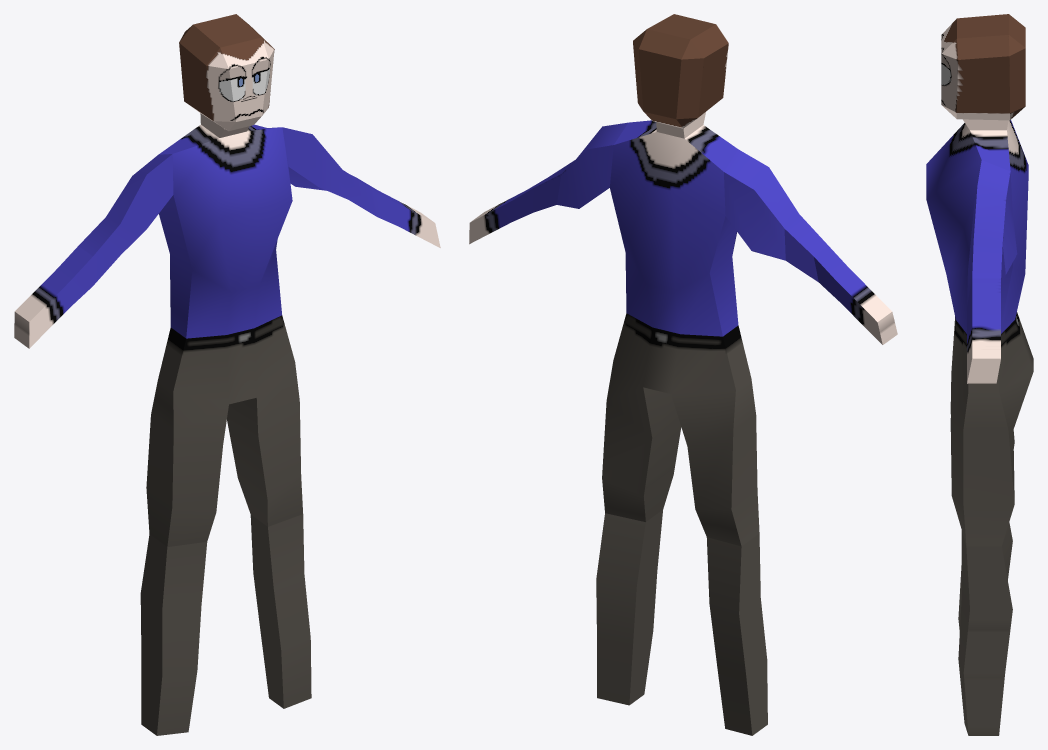
Rendered from JONNY TEST.fbx.
3 renders of one model, left to right at view 1: azimuth 30°, elevation 25°; view 2: azimuth 150°, elevation 25°; view 3: azimuth 270°, elevation 25°, orthographic.
Visible parts, largest first — view 1: pCube1, pCube2; view 2: pCube1, pCube2; view 3: pCube1, pCube2.
Part boxes in pixels (x1,y1,x2,y2): pCube1: [14, 113, 440, 735]; pCube2: [179, 14, 274, 131]; pCube1: [469, 112, 897, 735]; pCube2: [633, 14, 728, 128]; pCube1: [926, 119, 1033, 735]; pCube2: [941, 14, 1025, 120].
Size of the model in its own units: 7.41 by 11.78 by 1.69.
